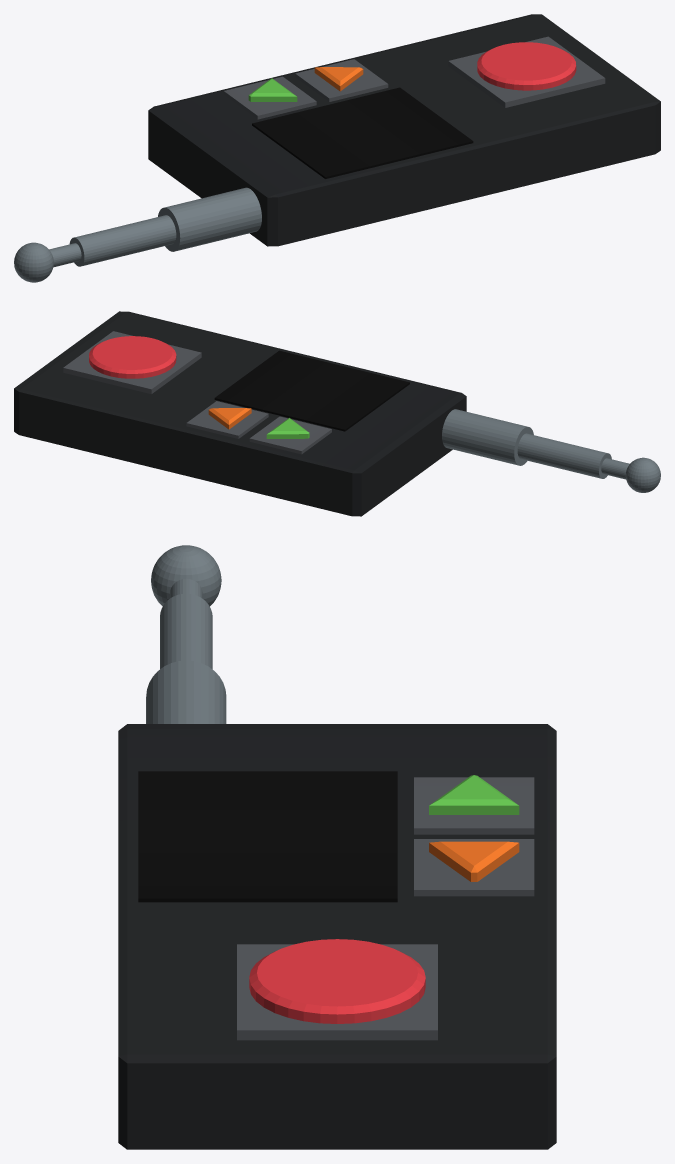
File: Remote3.fbx
The picture shows the model from 3 angles, top to bottom: view 1: azimuth 30°, elevation 25°; view 2: azimuth 150°, elevation 25°; view 3: azimuth 270°, elevation 25°; orthographic projection. The views are drawn at different scales.
Parts seen in each view (by area): view 1: Body, Display, Antenna, Cylinder, FireButton, UpButton, DownButton, Sphere, Cube.007, Cube.004; view 2: Body, Display, Antenna, Cylinder, FireButton, UpButton, DownButton, Sphere, Cube.007, Cube.004; view 3: Body, Display, Cylinder, Antenna, FireButton, UpButton, DownButton, Sphere, Cube.007, Cube.004.
Part boxes in pixels (x1,y1,x2,y2): Body: [148, 14, 660, 246]; Display: [252, 87, 473, 178]; Antenna: [49, 187, 261, 267]; Cylinder: [477, 42, 576, 90]; FireButton: [448, 36, 605, 107]; UpButton: [223, 76, 316, 119]; DownButton: [295, 59, 388, 101]; Sphere: [14, 242, 53, 282]; Cube.007: [314, 67, 363, 91]; Cube.004: [248, 78, 297, 101]; Body: [14, 311, 466, 516]; Display: [214, 350, 409, 431]; Antenna: [442, 409, 629, 479]; Cylinder: [89, 336, 176, 378]; FireButton: [63, 331, 201, 394]; UpButton: [249, 416, 331, 454]; DownButton: [186, 401, 268, 438]; Sphere: [625, 457, 660, 492]; Cube.007: [208, 408, 251, 429]; Cube.004: [266, 418, 309, 438]; Body: [118, 724, 556, 1149]; Display: [138, 771, 397, 902]; Cylinder: [249, 939, 425, 1023]; Antenna: [146, 578, 226, 723]; FireButton: [237, 944, 437, 1040]; UpButton: [414, 777, 534, 834]; DownButton: [414, 839, 534, 896]; Sphere: [151, 545, 221, 606]; Cube.007: [429, 841, 519, 881]; Cube.004: [429, 775, 519, 814].
Bounding box in the file's own units: 31.89 × 3.14 × 10.93.
